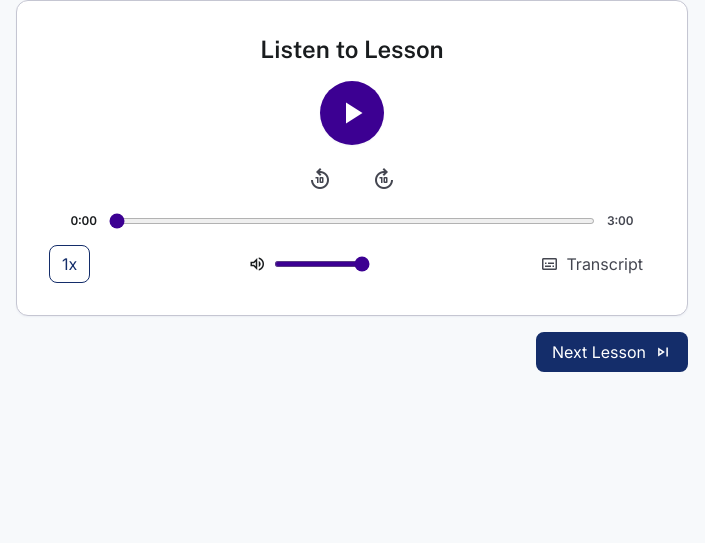
Test: AudioPlayer › cycles speed and toggles the transcript
Expected: the button with test id "btn-au1" is shown, [320, 81, 384, 145]
Click the button with test id "btn-au5": x=70, y=264 [49, 245, 90, 283]
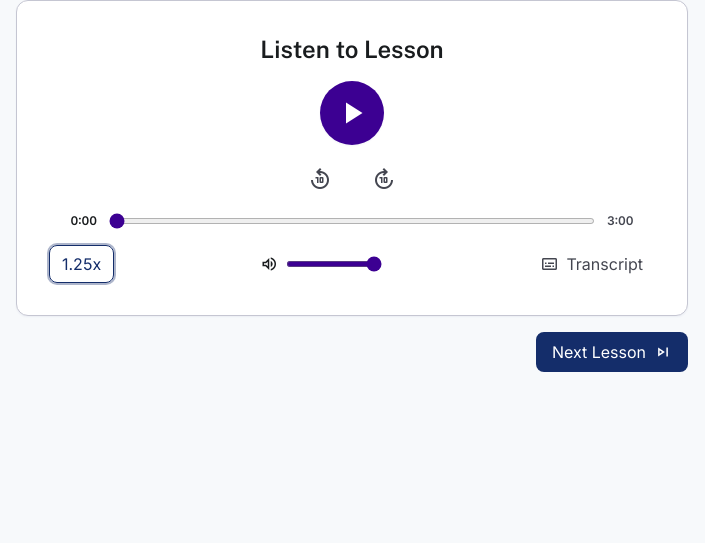
Expected: the button with test id "btn-au5" reads "1.25x", [49, 245, 114, 283]
Click the button with test id "btn-au7": x=592, y=264 [528, 246, 655, 282]
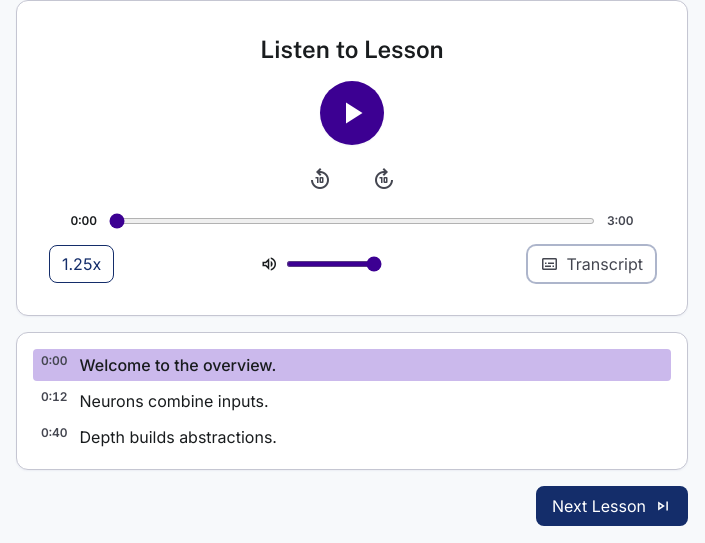
Expected: the element with test id "transcript-panel" is shown, [16, 332, 688, 470]
Expected: the button "0:12 Neurons combine inputs." is shown, [33, 385, 671, 417]
